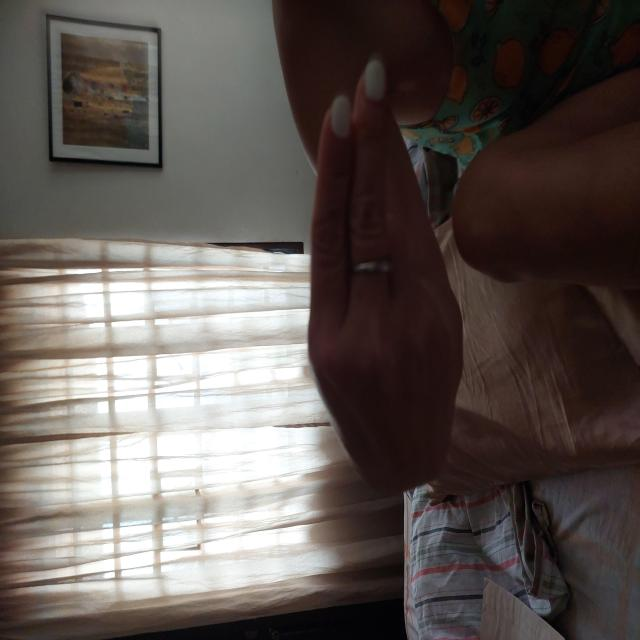H: (138, 306, 584, 466)
